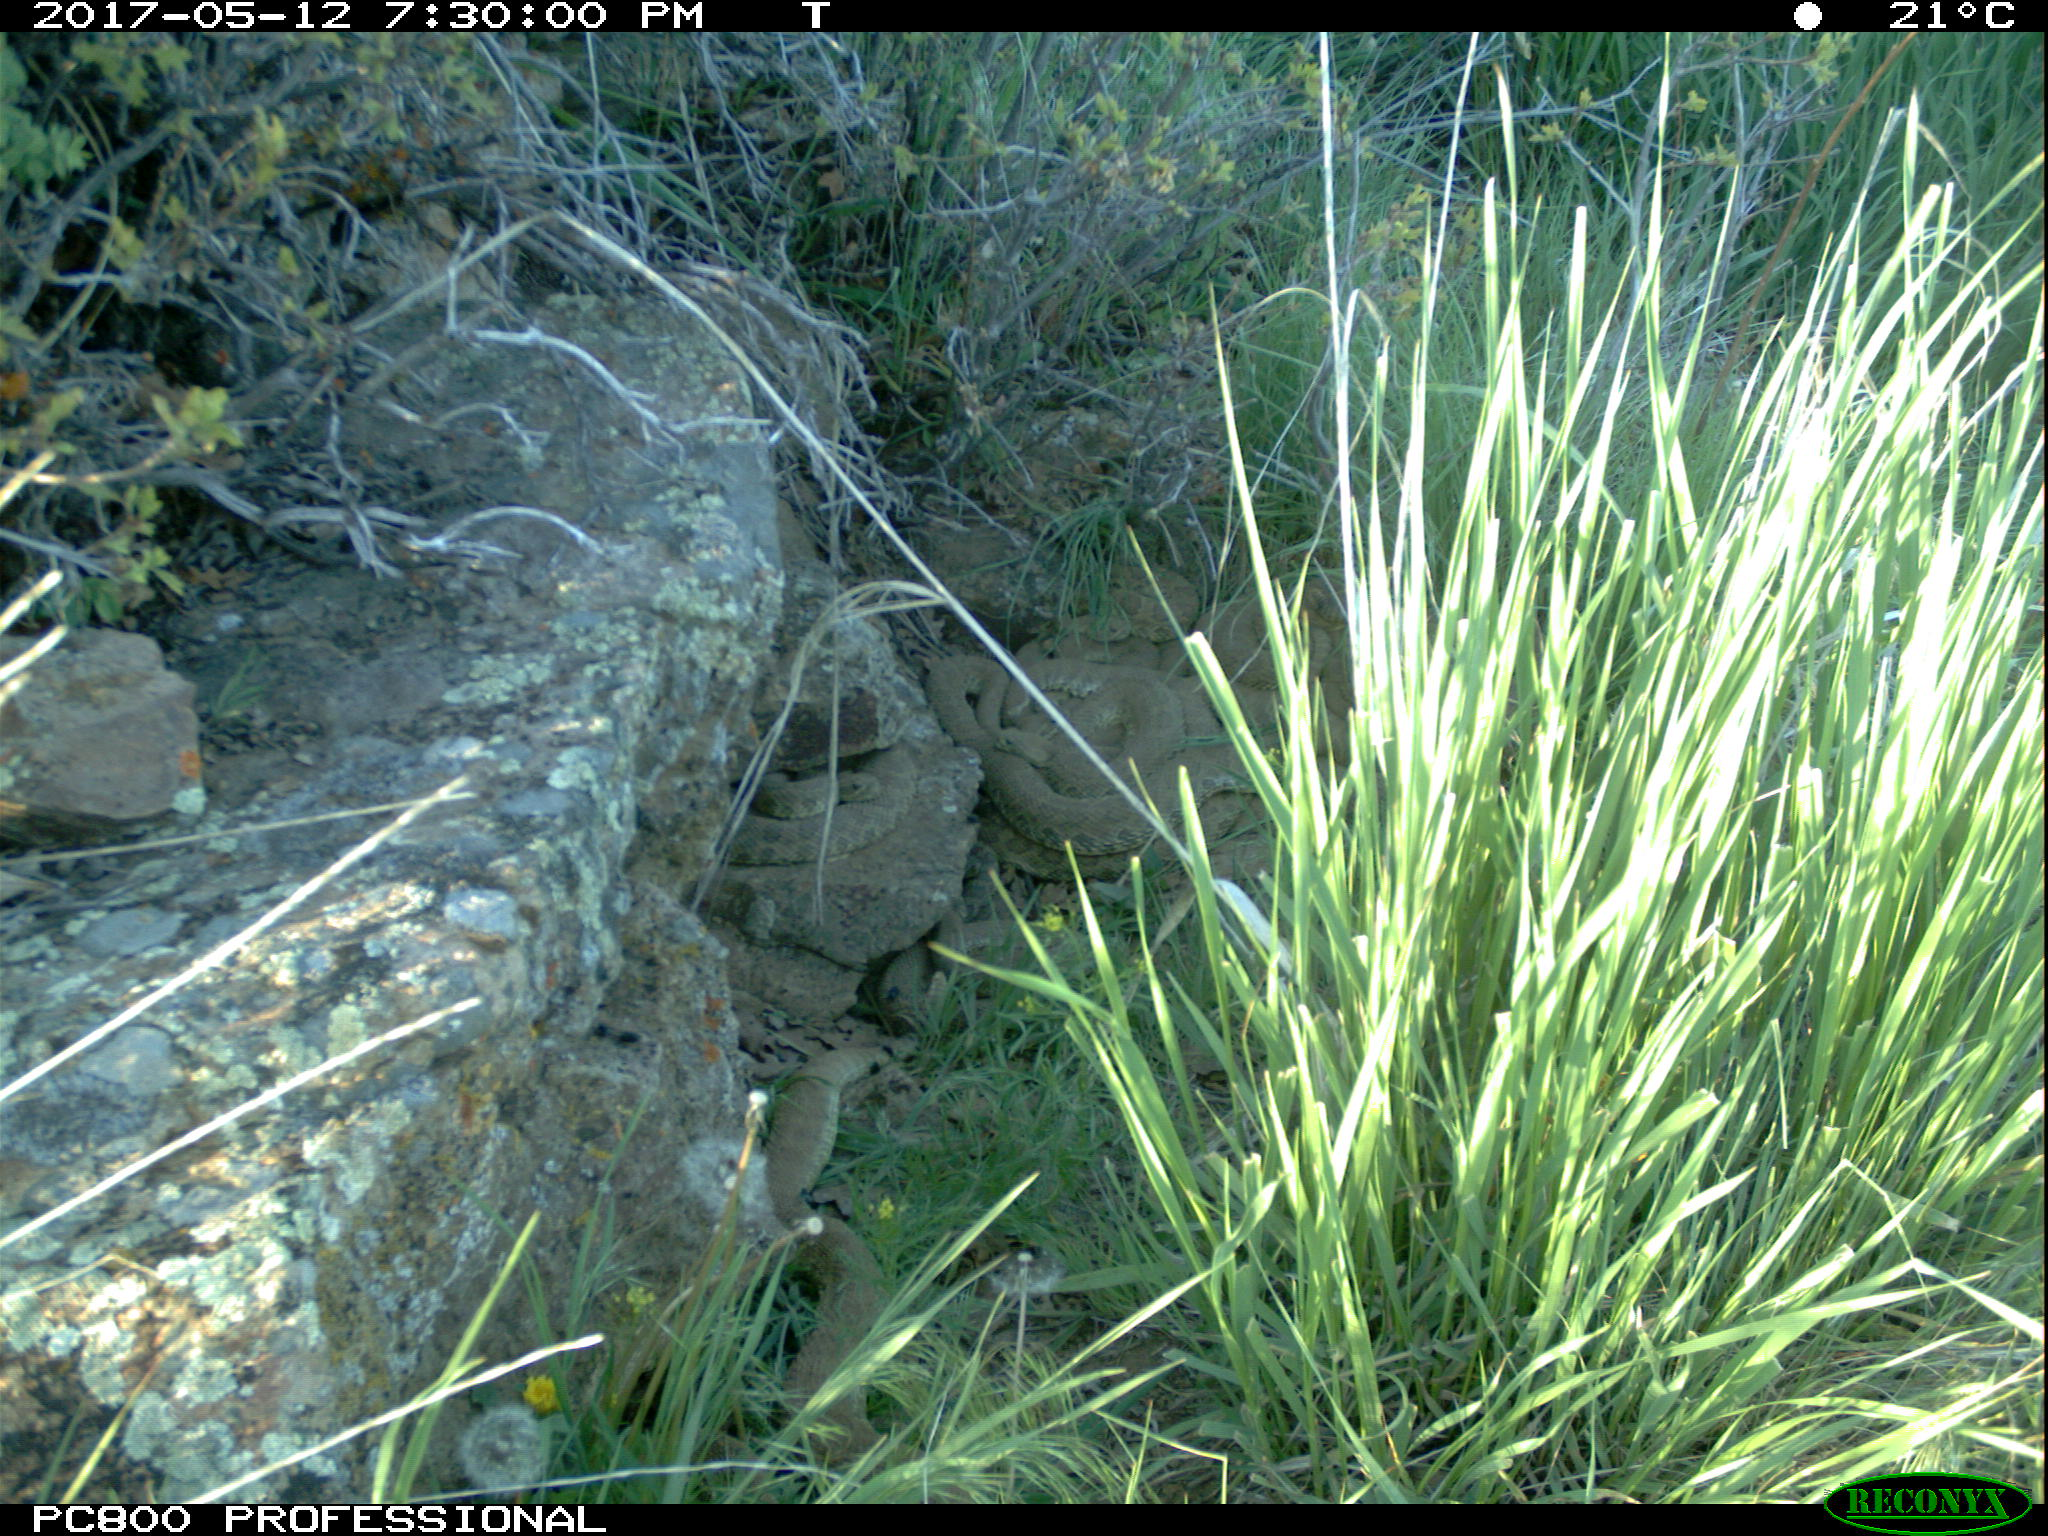snake: (761, 1044, 898, 1470), (919, 649, 1180, 854), (1188, 573, 1376, 700), (721, 763, 921, 857), (1174, 713, 1284, 863), (1089, 558, 1208, 644)
